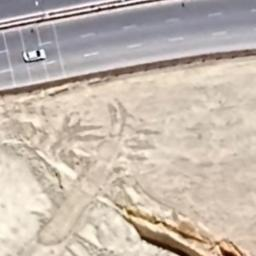sedan: (20, 48, 48, 63)
